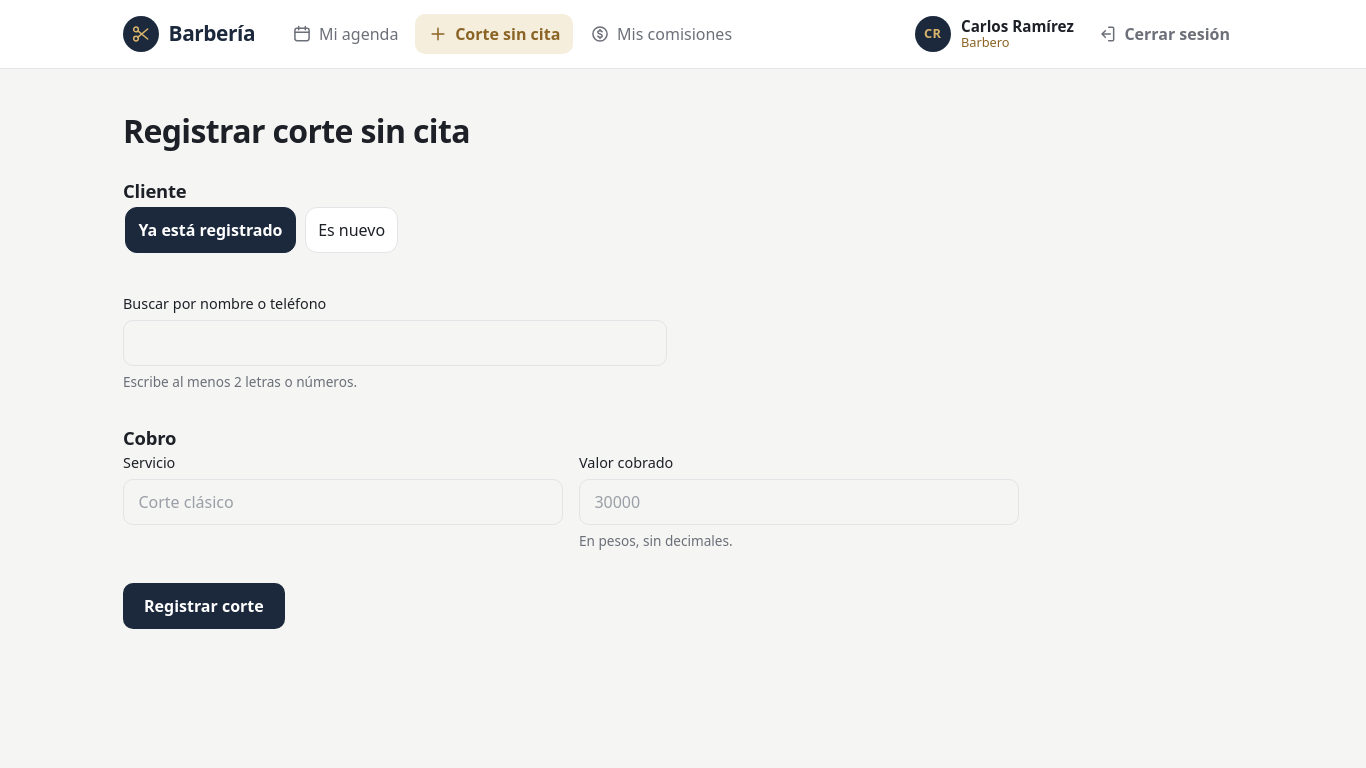
corte sin cita (HU-28) › pide elegir al cliente antes de registrar
Check: the heading "Registrar corte sin cita" is shown, box [123,109,470,152]
Step 1. Type "Barba" into the field labelled "Servicio" → {"x": 343, "y": 502}, box [123,479,563,525]
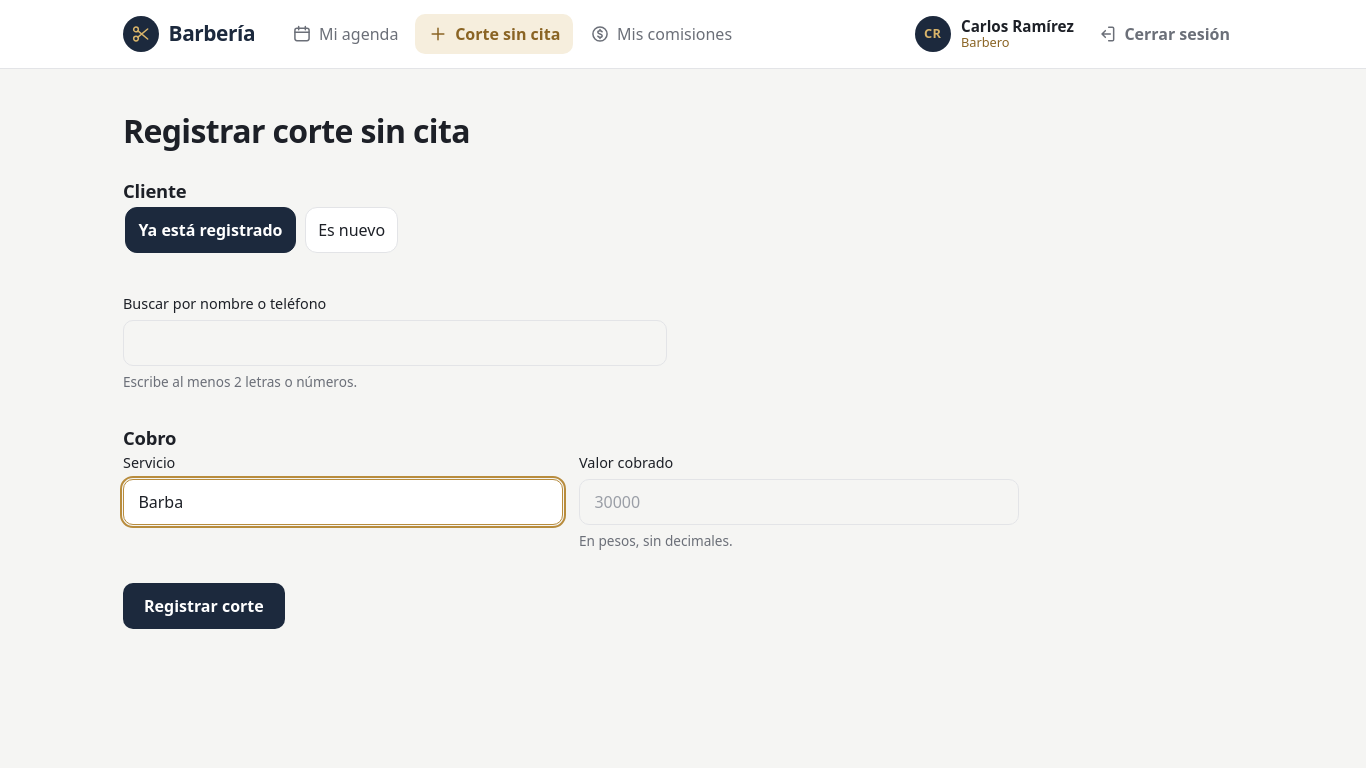
Step 2. Type "15000" into the field labelled "Valor cobrado" → {"x": 799, "y": 502}, box [579,479,1019,525]
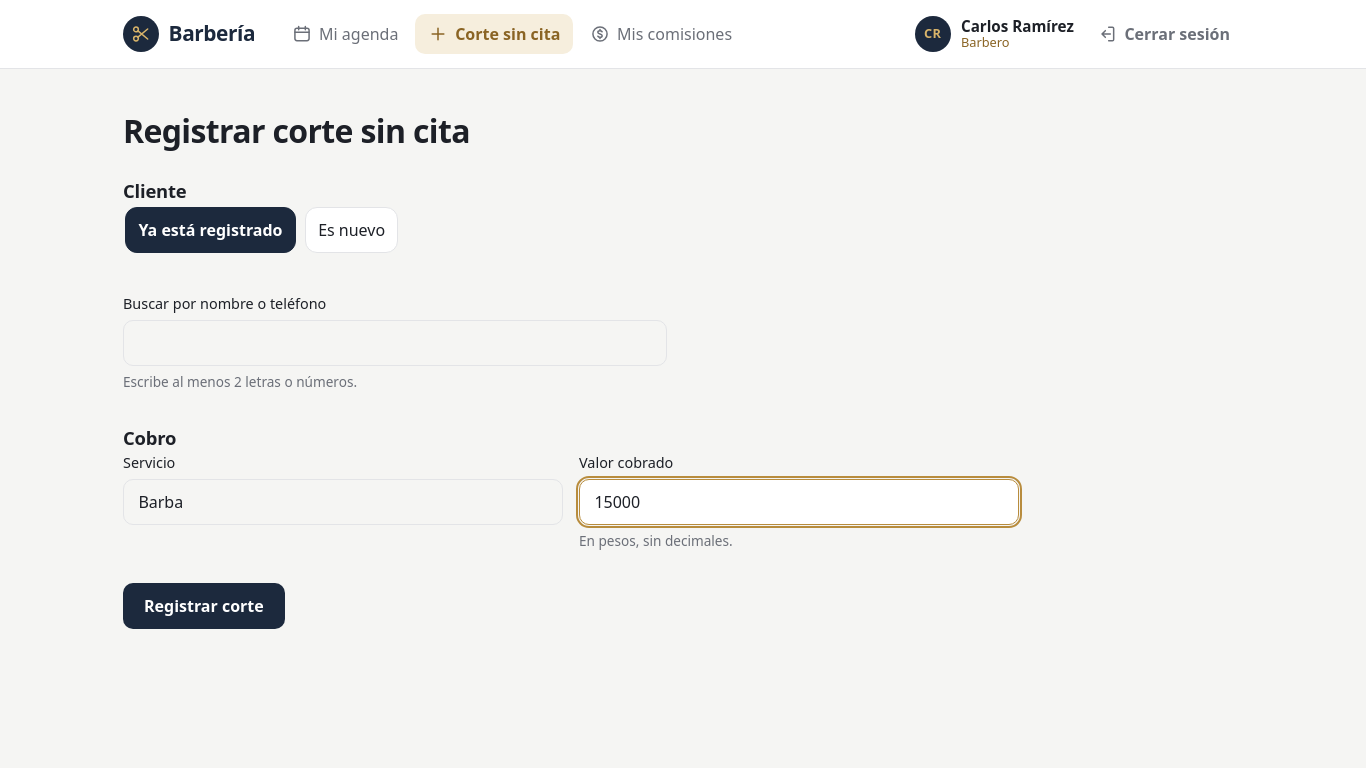
Step 3. Click the button "Registrar corte" → {"x": 204, "y": 606}, box [123,583,285,628]
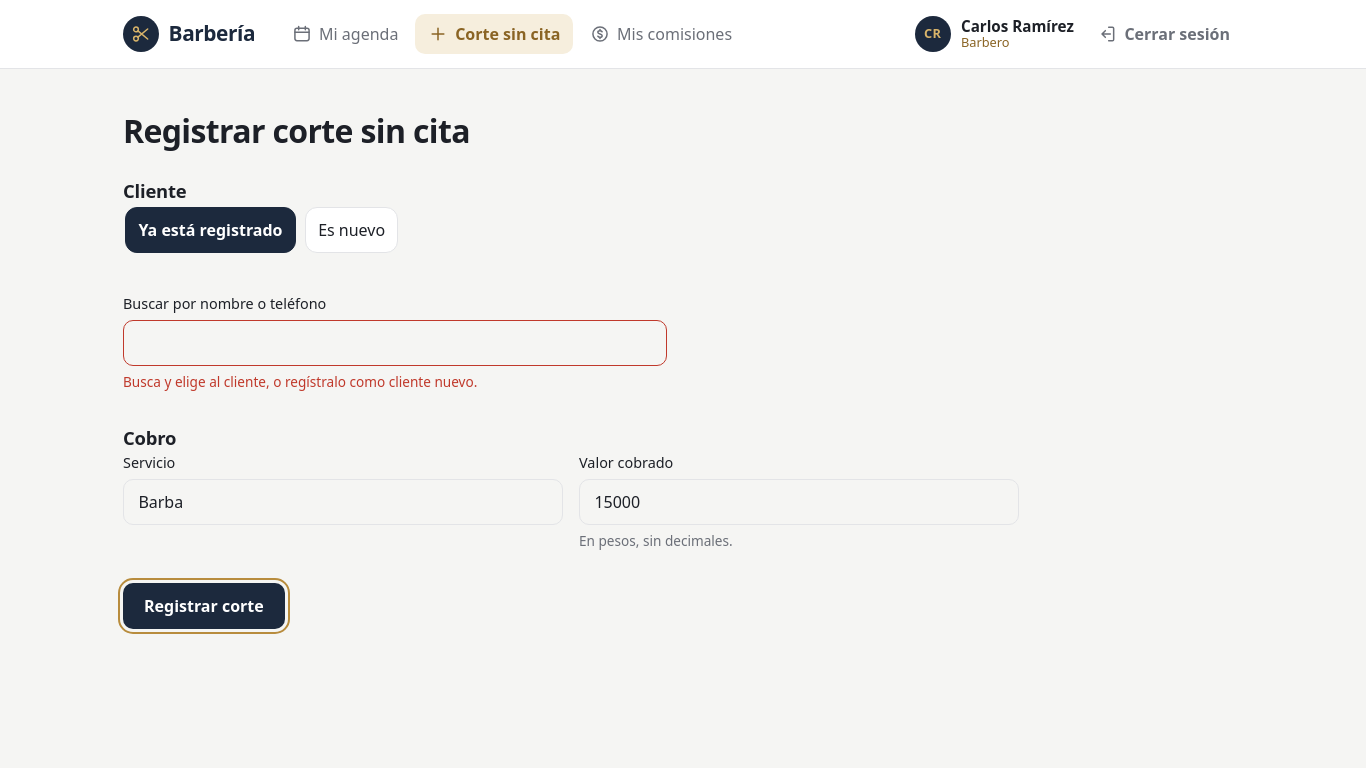
Check: the text "Busca y elige al cliente, o regístralo como cliente nuevo." is shown, box [123,372,477,391]
